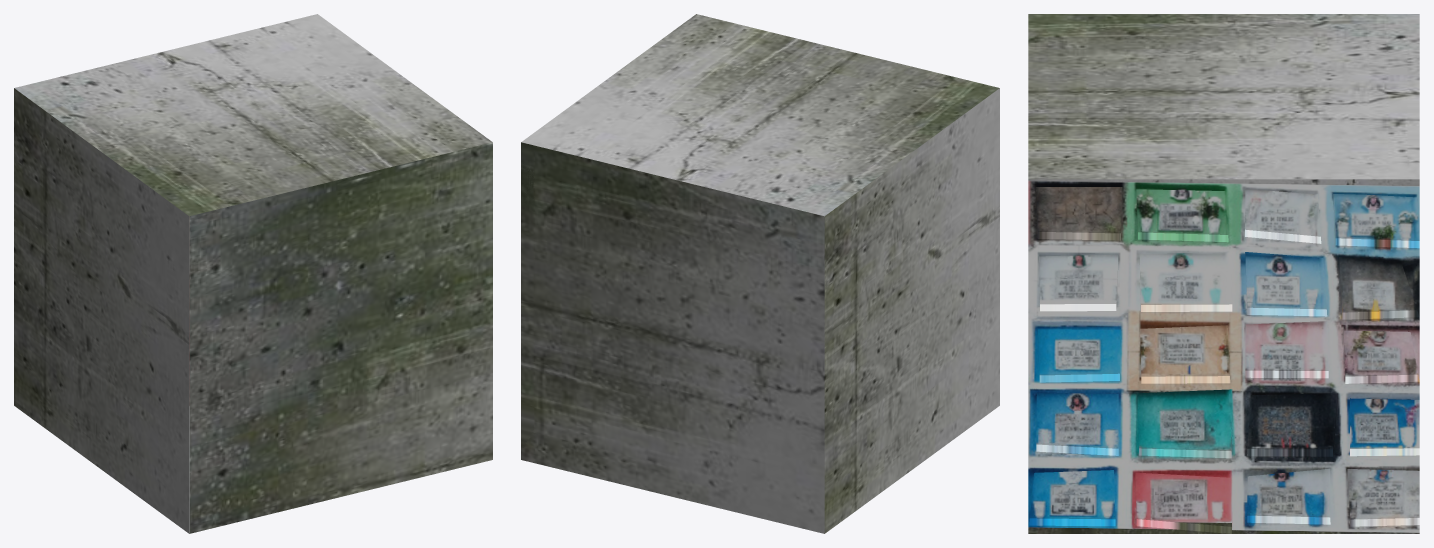
The model's file is Grave 2.fbx.
3 views of the same model, side by side, from view 1: azimuth 30°, elevation 25°; view 2: azimuth 150°, elevation 25°; view 3: azimuth 270°, elevation 25° (orthographic). The views are drawn at different scales.
Visible parts, largest first — view 1: Cube; view 2: Cube; view 3: Cube.
Part boxes in pixels (box(x1,y1,x2,y2)): Cube: box(14, 14, 492, 533); Cube: box(521, 14, 999, 533); Cube: box(1028, 14, 1419, 533).
Size of the model in its own units: 1056 by 1056 by 1056.
1 material, 1 textured.
